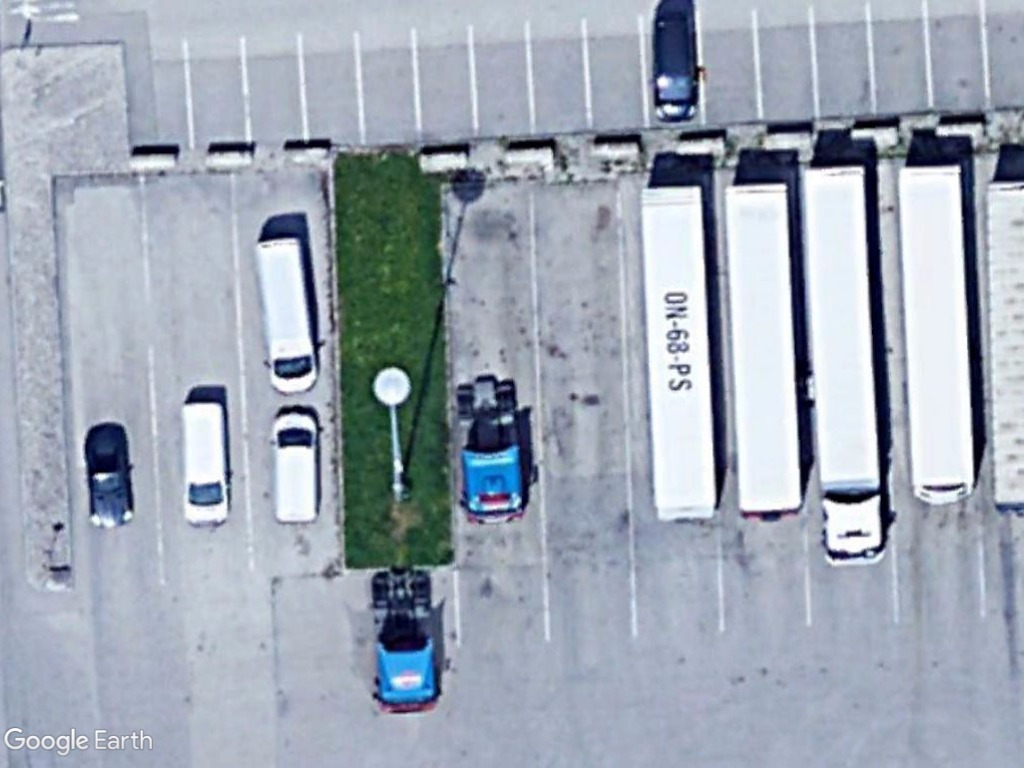car: (82, 423, 141, 531)
longvehicle: (792, 158, 896, 571)
van: (250, 235, 322, 400), (177, 399, 237, 531), (270, 411, 326, 528), (647, 12, 703, 126)
